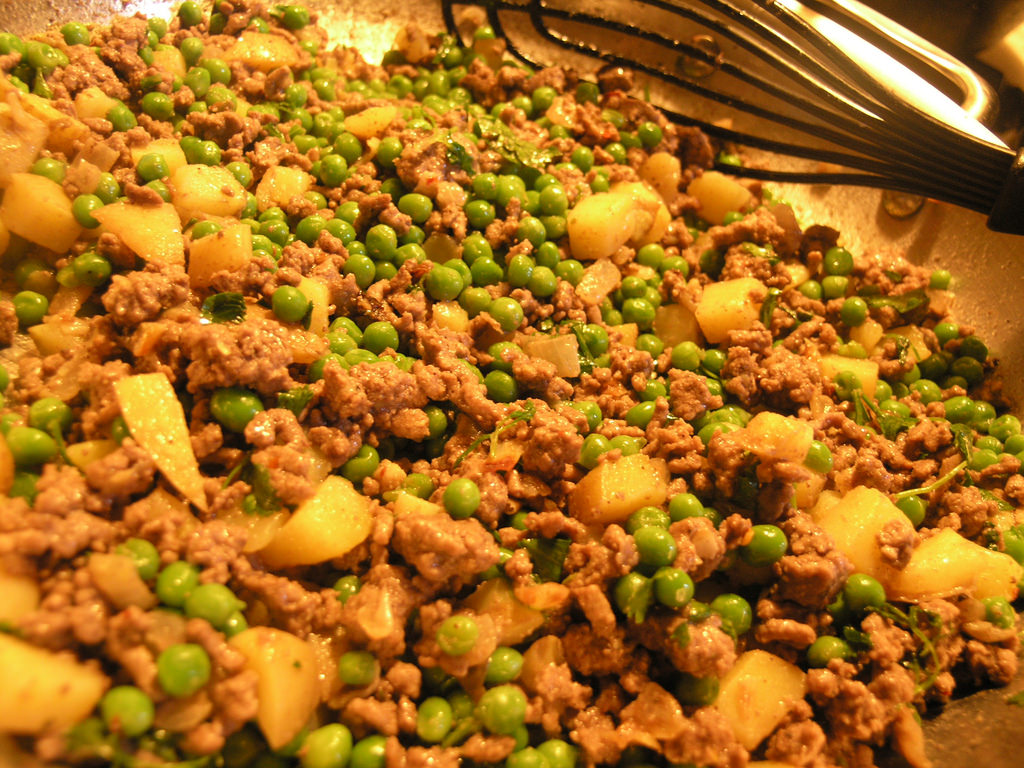boiled peas: (296, 204, 529, 312)
